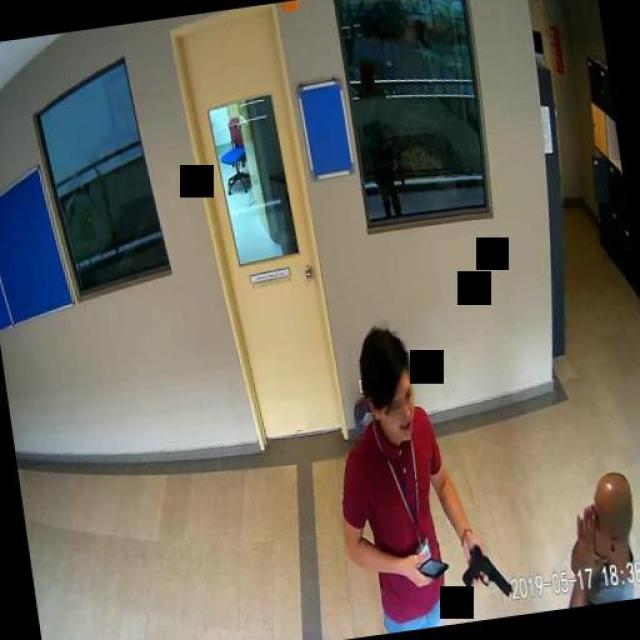gun: (455, 536, 511, 602)
